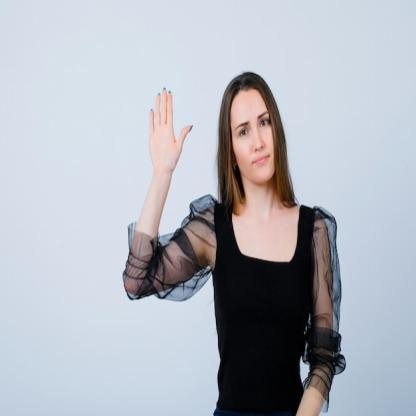stop: (147, 82, 194, 180)
